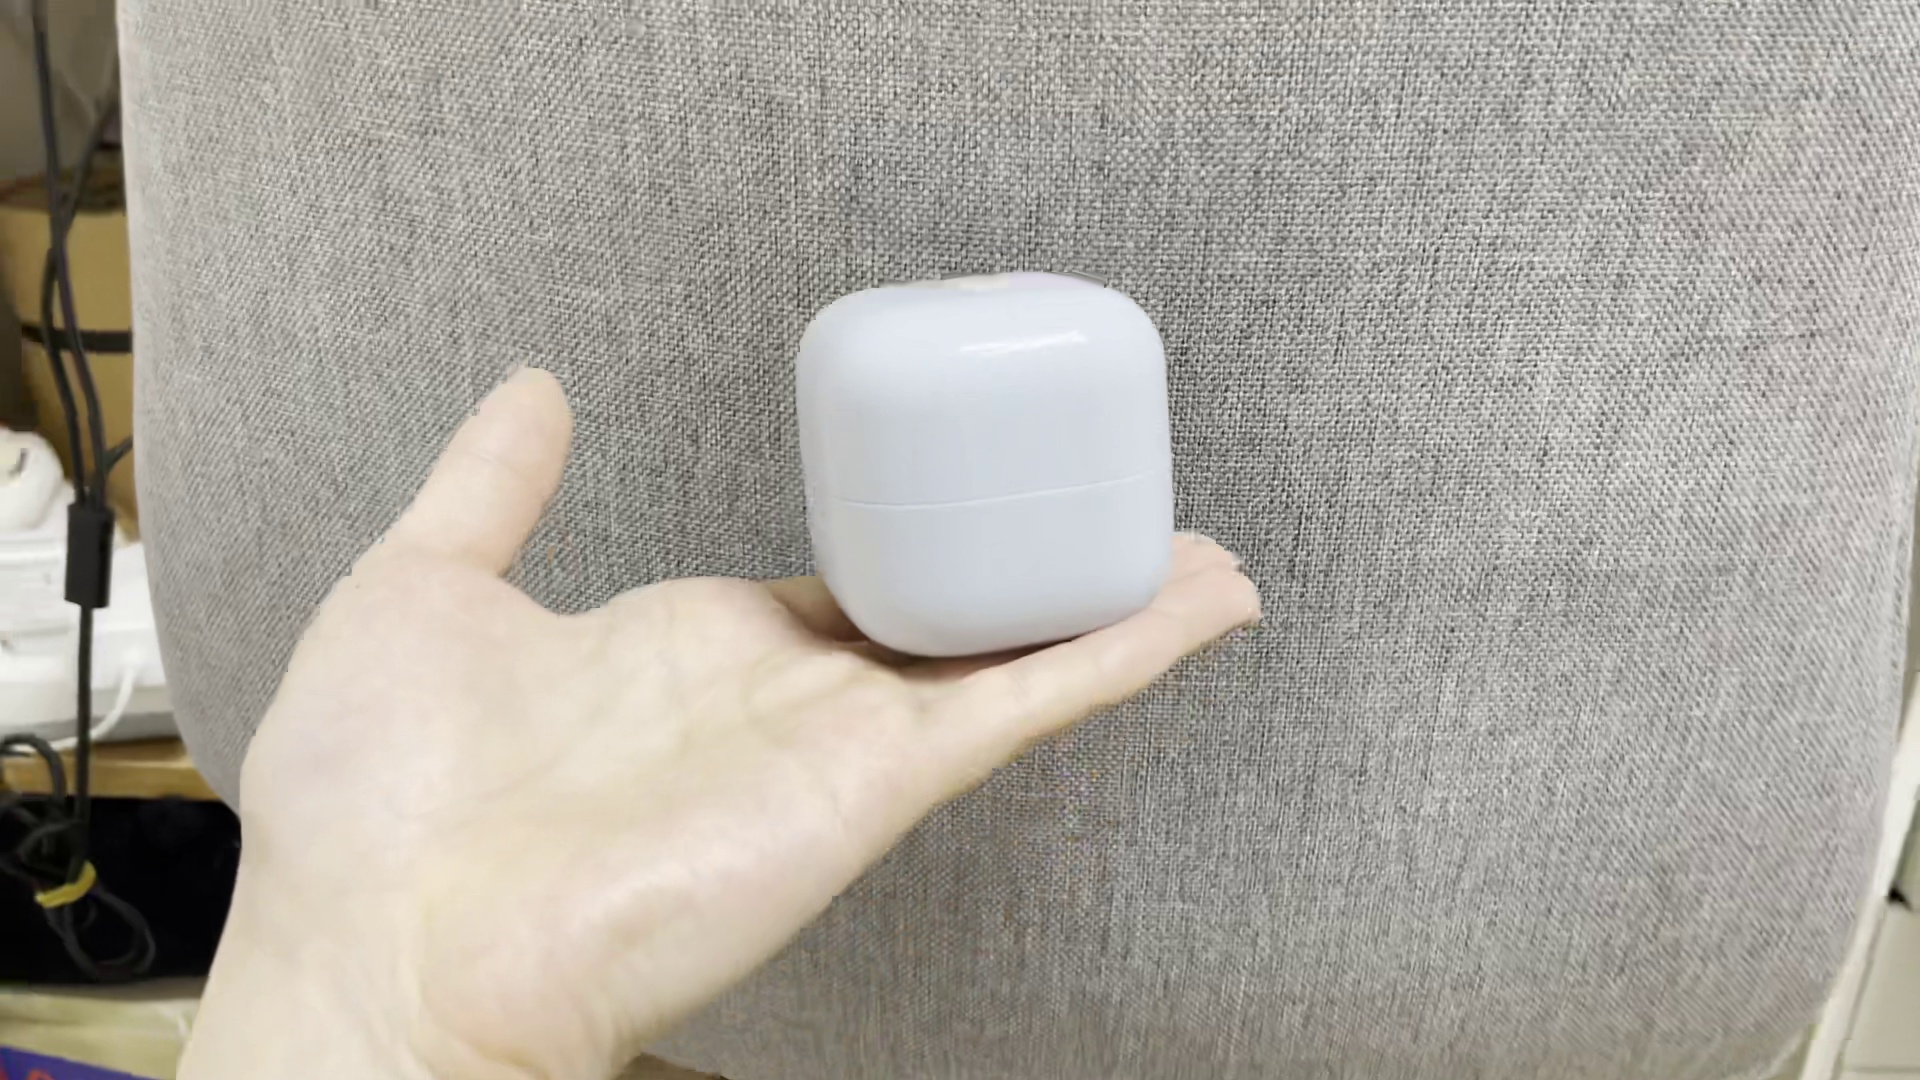cream: (790, 272, 1176, 662)
